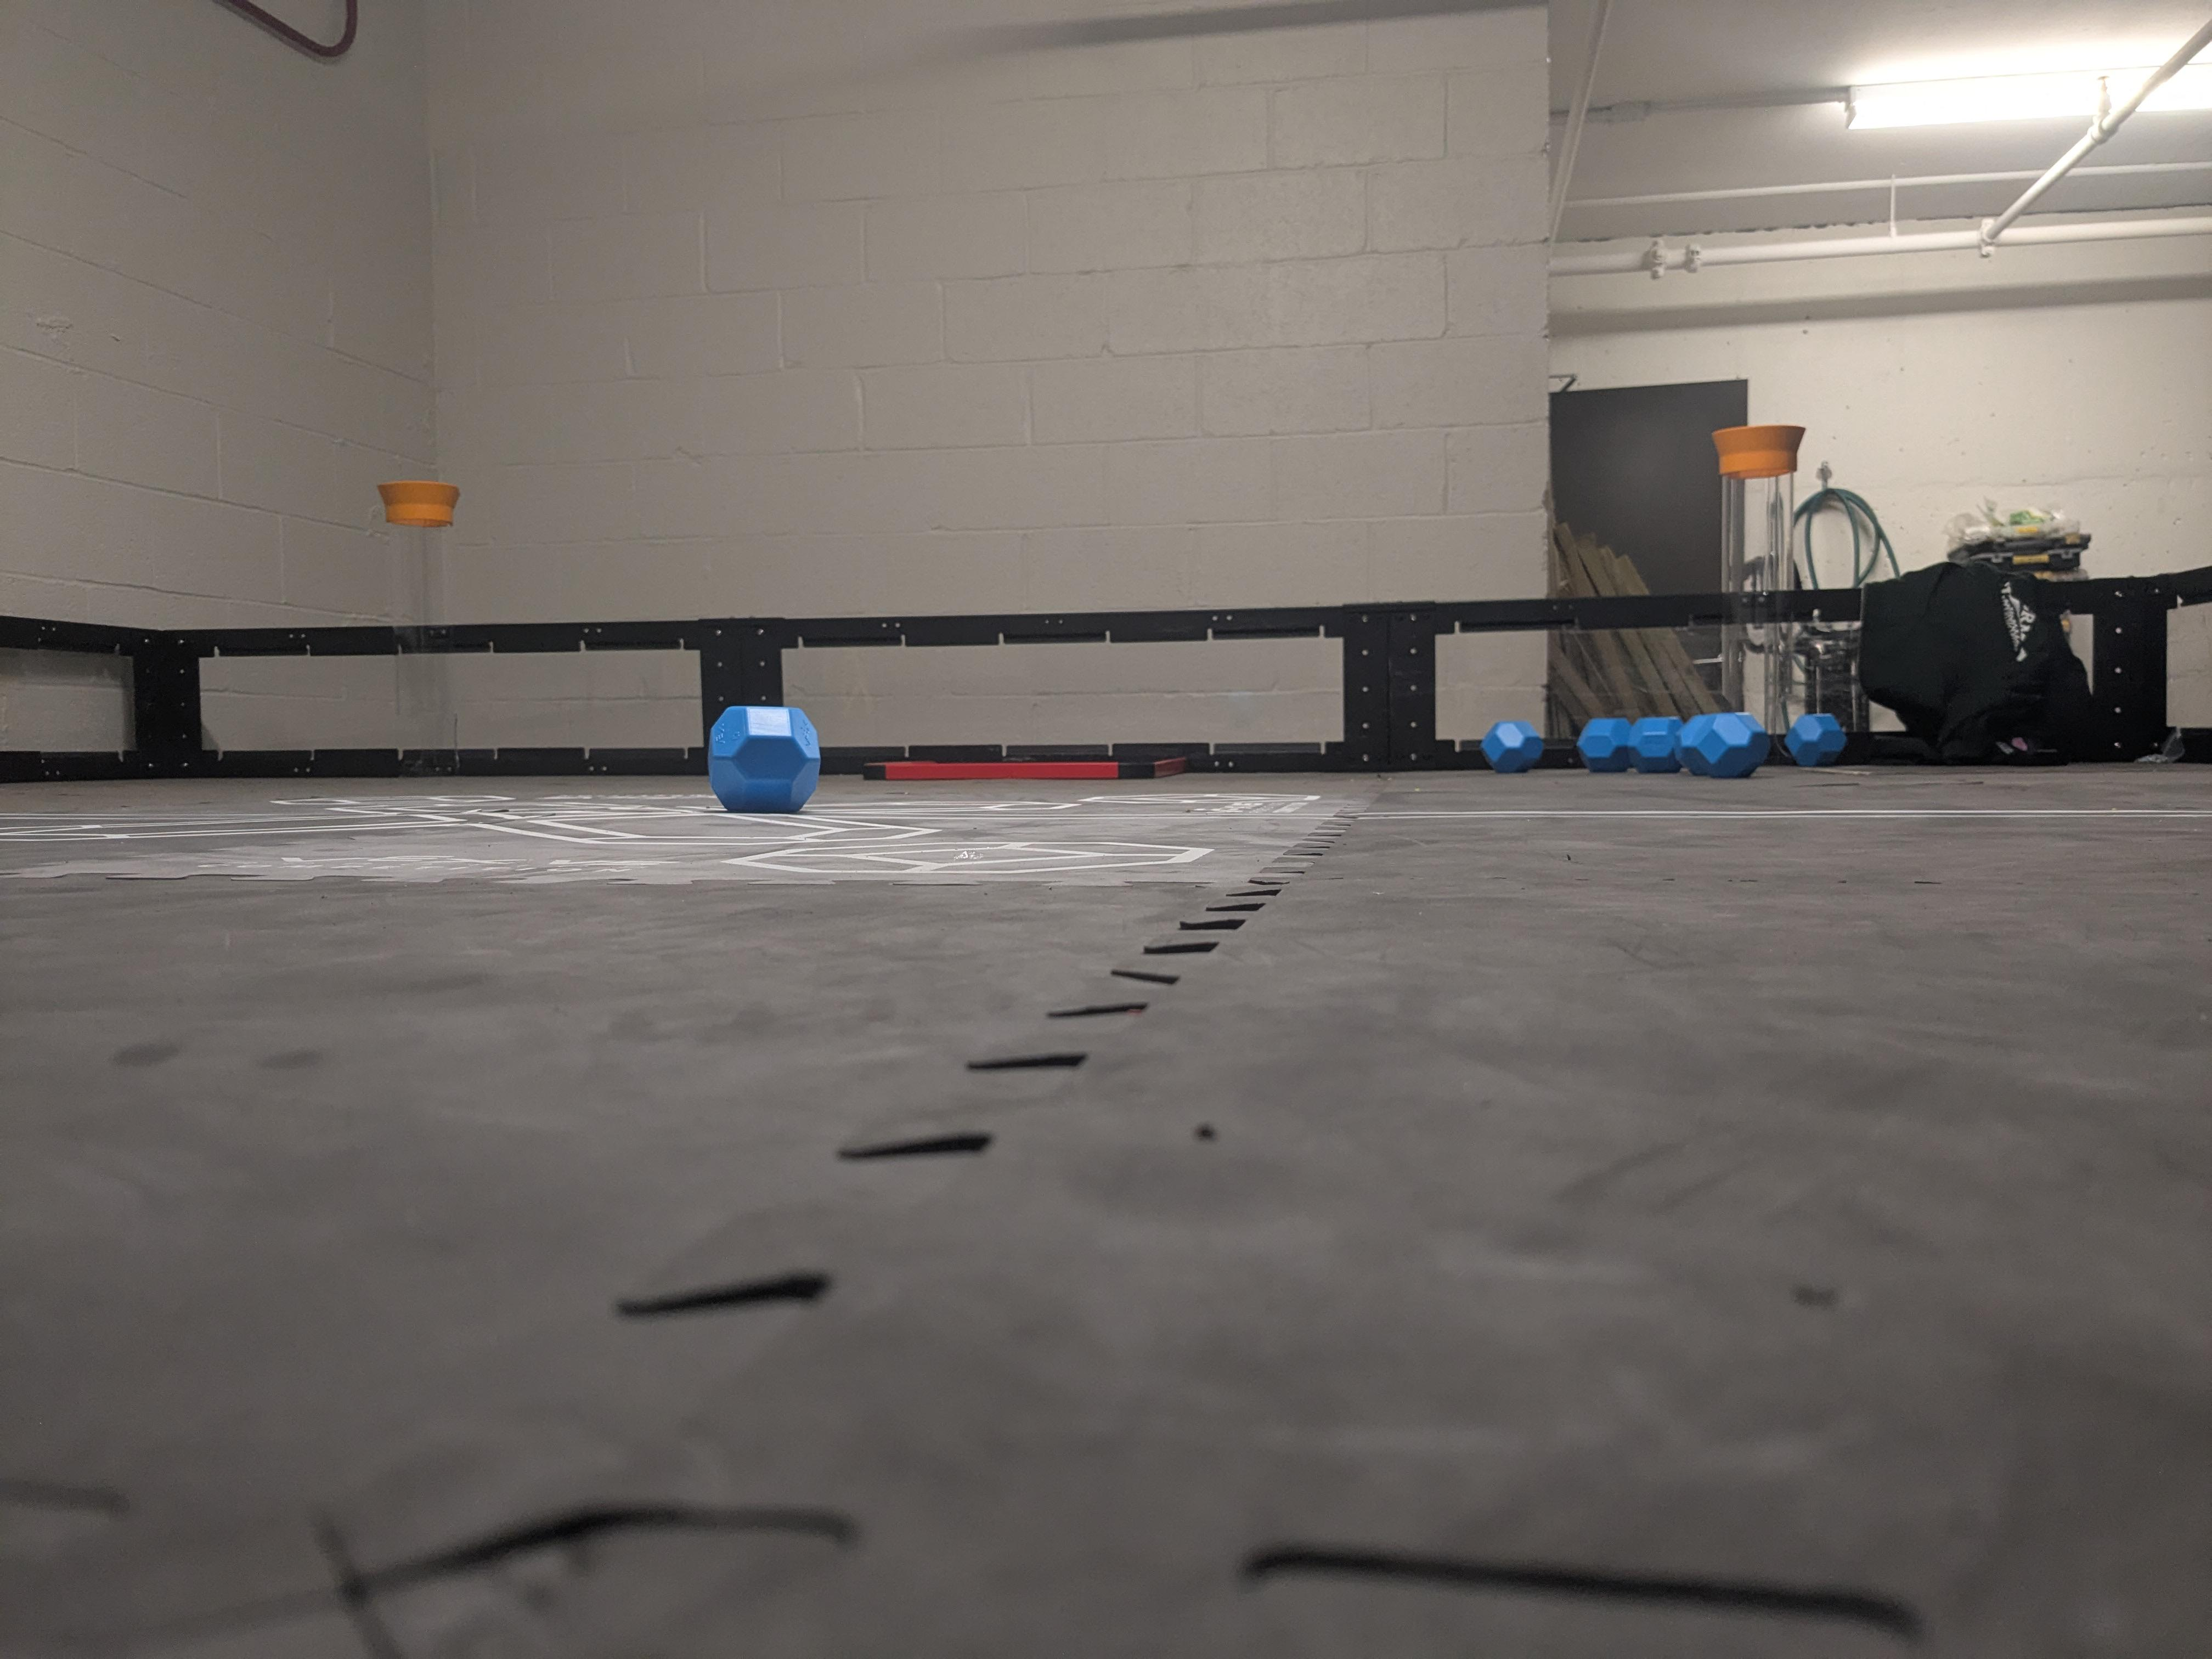Vex-Pieces-BLUE: (709, 704, 819, 809), (1679, 713, 1770, 777), (1782, 714, 1846, 765), (1629, 716, 1684, 774), (1480, 721, 1543, 772), (1576, 718, 1629, 772)
